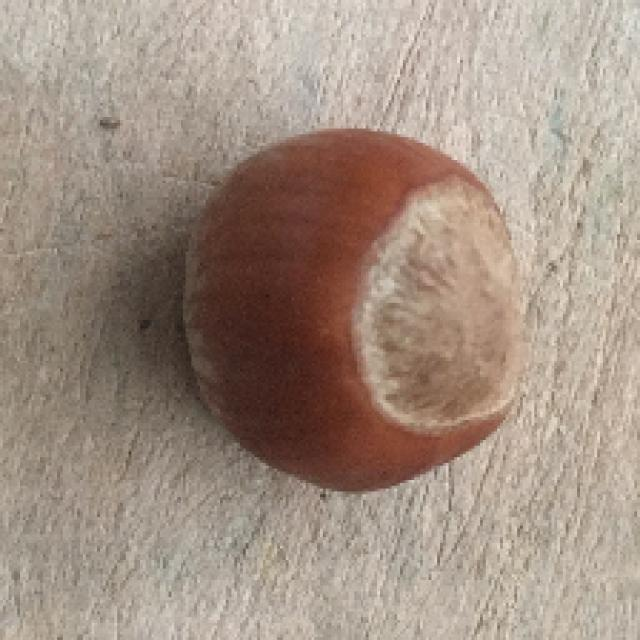QualityHazelnut: (179, 125, 529, 497)
